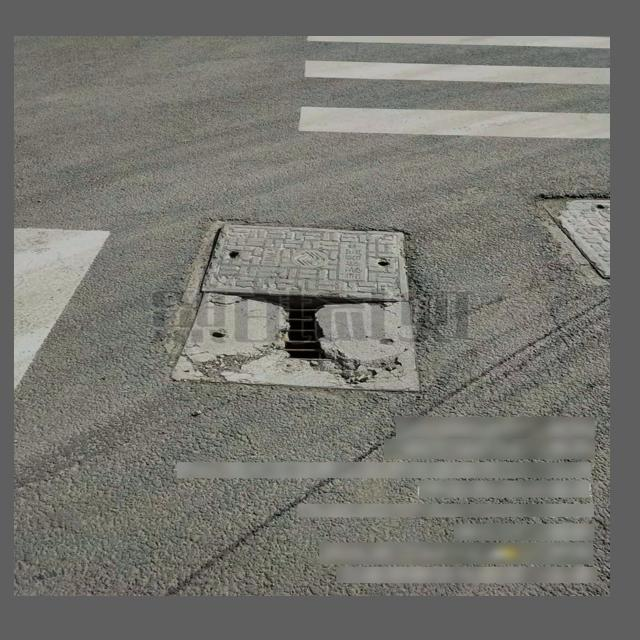broke: (167, 224, 423, 393)
